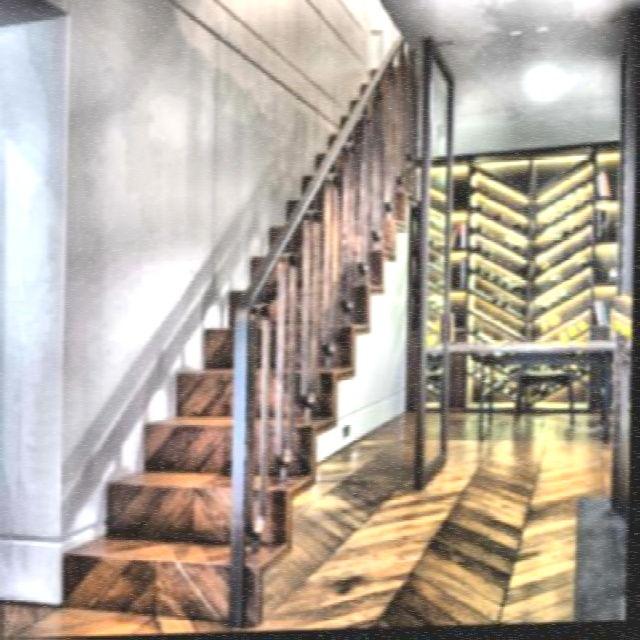stair: (63, 328, 239, 624)
